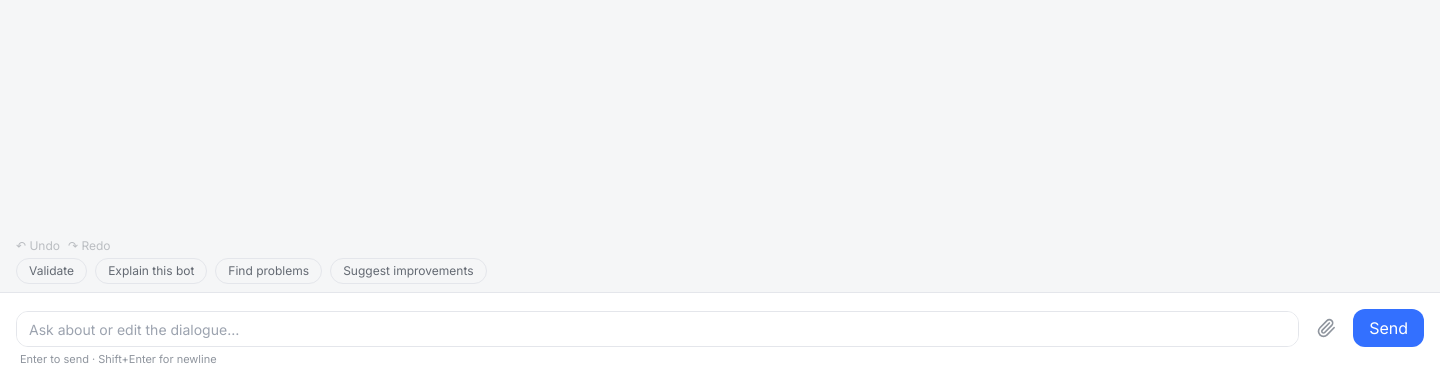
Scenario: ChatPane slash-commands › typing "/" opens the slash menu
Type "/" into the text box with placeholder "Ask about or edit the dialogue…" at (658, 328), box [16,310,1299,346]
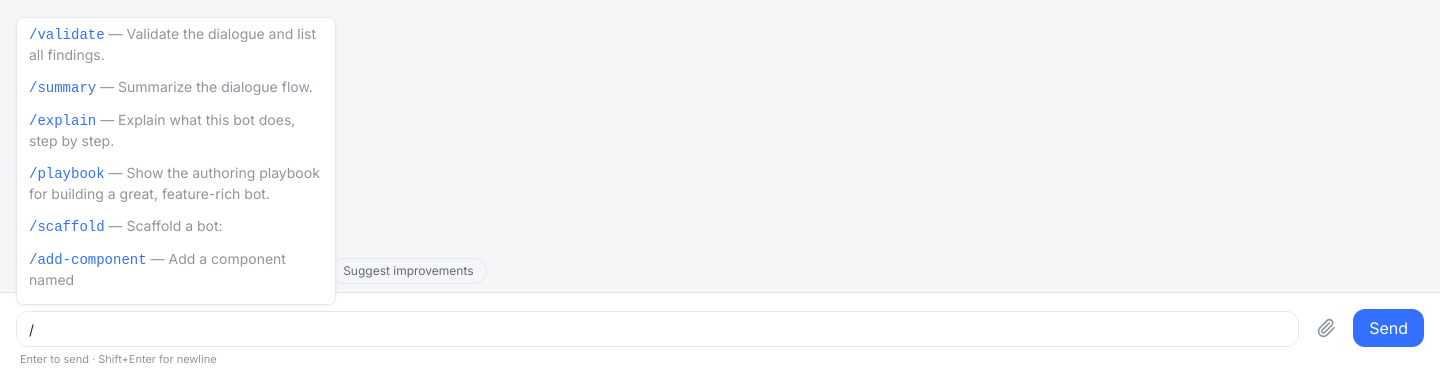
Now the element with test id "slash-menu" is shown, box [16,16,336,304]
Now the text "/validate" is shown, box [29,26,105,42]
